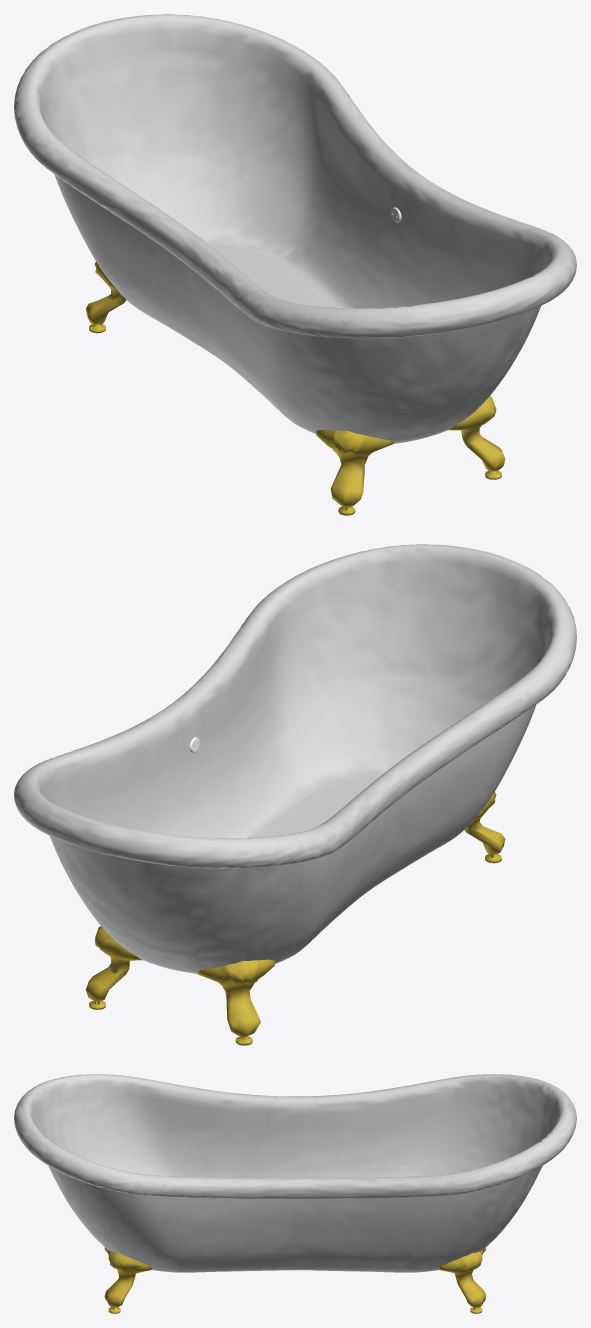
The model's file is Baignoire.fbx.
3 views of the same model, one above another, from view 1: azimuth 30°, elevation 25°; view 2: azimuth 150°, elevation 25°; view 3: azimuth 270°, elevation 25° (orthographic). The views are drawn at different scales.
Parts seen in each view (by area): view 1: Baignoire clean.001, Cylinder003; view 2: Baignoire clean.001, Cylinder003; view 3: Baignoire clean.001, Cylinder003.
Part boxes in pixels (x1,y1,x2,y2): Baignoire clean.001: [14, 14, 576, 443]; Cylinder003: [86, 262, 505, 507]; Baignoire clean.001: [14, 544, 576, 973]; Cylinder003: [85, 792, 505, 1037]; Baignoire clean.001: [14, 1074, 576, 1272]; Cylinder003: [104, 1247, 485, 1307].
Bounding box in the file's own units: 66.68 × 52.22 × 150.
